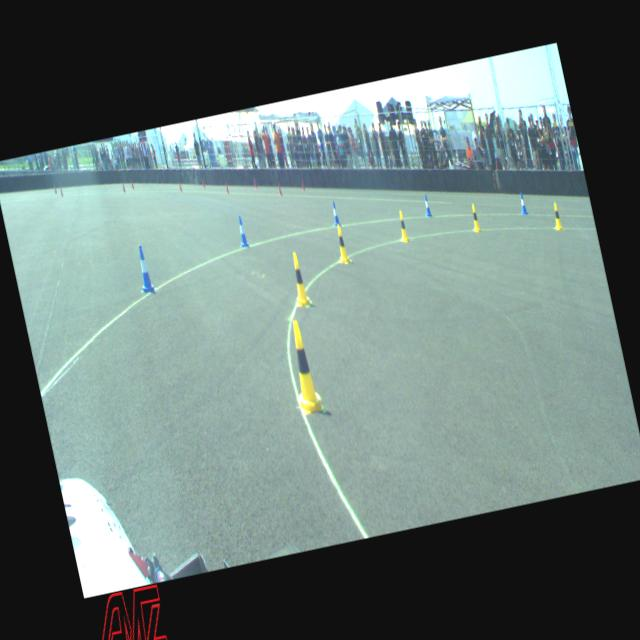blue_cone: (132, 244, 154, 294), (234, 215, 248, 248), (329, 200, 340, 227), (518, 192, 528, 216), (422, 194, 432, 218)
unknown_cone: (120, 180, 126, 192), (277, 182, 282, 195), (60, 184, 64, 197), (224, 180, 228, 192), (300, 178, 304, 190), (178, 180, 182, 191), (201, 177, 205, 188), (252, 178, 256, 189), (130, 178, 134, 188)
yellow_cone: (282, 318, 324, 414), (286, 251, 311, 306), (332, 223, 350, 264), (394, 210, 408, 242), (468, 203, 481, 232), (550, 201, 562, 230)
